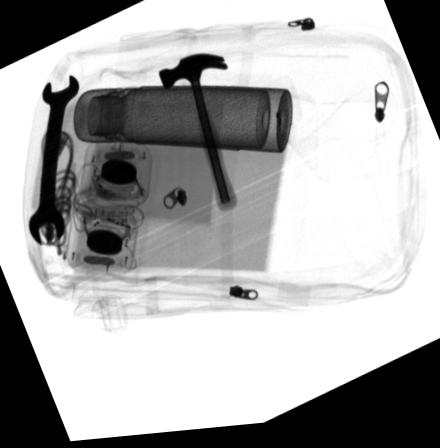Hammer: (159, 57, 238, 216)
Wrench: (28, 73, 80, 247)
